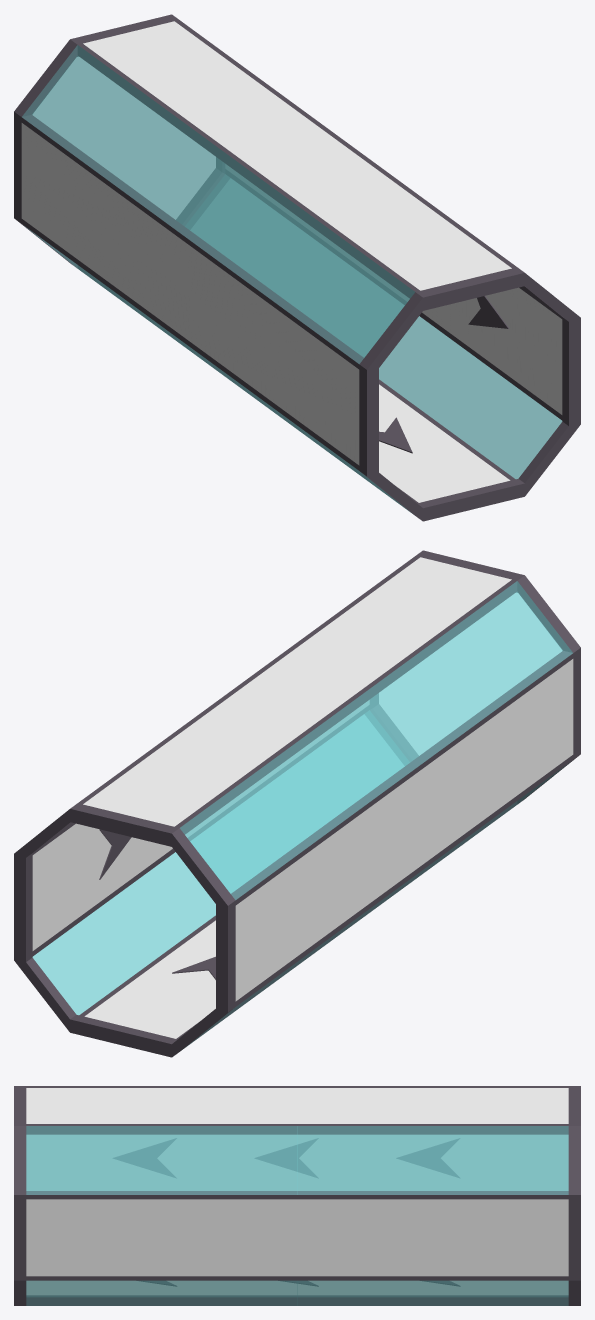
Rendered from TunnelSection03.fbx.
3 renders of one model, top to bottom at view 1: azimuth 30°, elevation 25°; view 2: azimuth 150°, elevation 25°; view 3: azimuth 270°, elevation 25°, orthographic. The views are drawn at different scales.
Parts seen in each view (by area): view 1: TunnelSection03; view 2: TunnelSection03; view 3: TunnelSection03.
Part boxes in pixels (bbox=[...]): TunnelSection03: bbox=[14, 14, 580, 521]; TunnelSection03: bbox=[14, 550, 580, 1057]; TunnelSection03: bbox=[14, 1086, 580, 1305].
Bounding box in the file's own units: 42 × 42 × 120.
